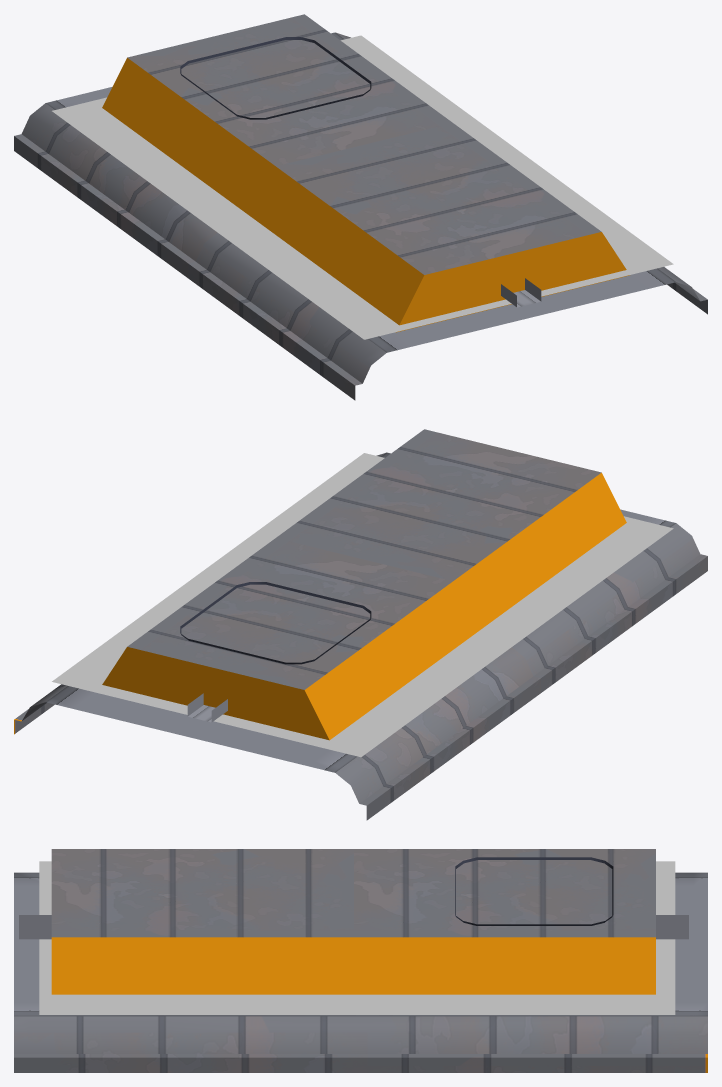
File: obj_building_elevatorceiling.fbx
The picture shows the model from 3 angles, top to bottom: view 1: azimuth 30°, elevation 25°; view 2: azimuth 150°, elevation 25°; view 3: azimuth 270°, elevation 25°; orthographic projection.
Parts seen in each view (by area): view 1: obj_building_elevatorceiling; view 2: obj_building_elevatorceiling; view 3: obj_building_elevatorceiling.
Boxes of the visible parts, <box> form: obj_building_elevatorceiling: <box>14,14,707,400</box>; obj_building_elevatorceiling: <box>14,429,707,820</box>; obj_building_elevatorceiling: <box>14,849,707,1072</box>.
Size of the model in its own units: 14.62 by 3.68 by 24.5.
